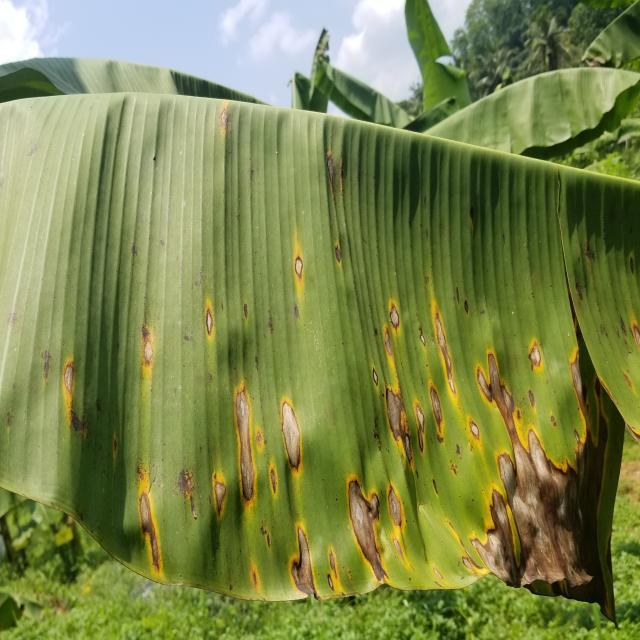Early_rust: (0, 218, 640, 619), (285, 131, 365, 198), (190, 93, 251, 144)
